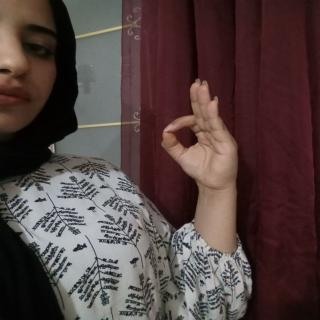Space: (152, 75, 249, 198)
